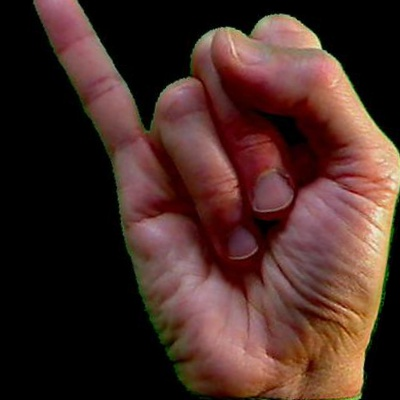j: (1, 1, 398, 391)
